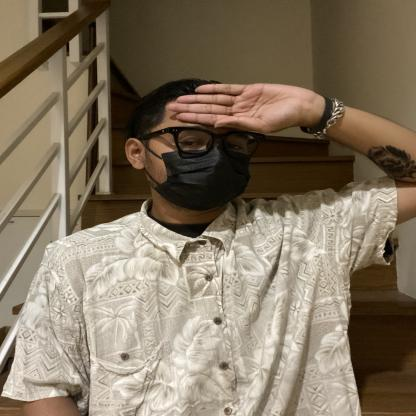Sick: (39, 55, 337, 212)
